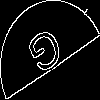G: (25, 25, 69, 85)
